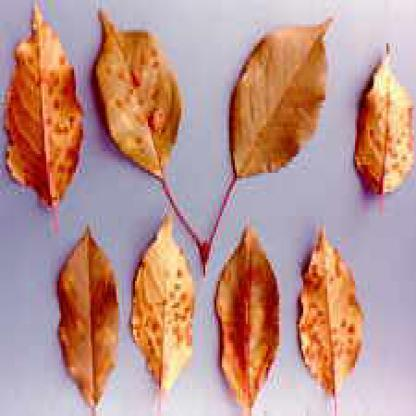Apple Scab Leaf: (226, 11, 356, 200), (92, 14, 188, 208), (5, 9, 84, 222), (210, 210, 286, 414), (294, 208, 366, 413), (129, 216, 200, 413), (56, 227, 124, 413), (348, 44, 414, 202)
